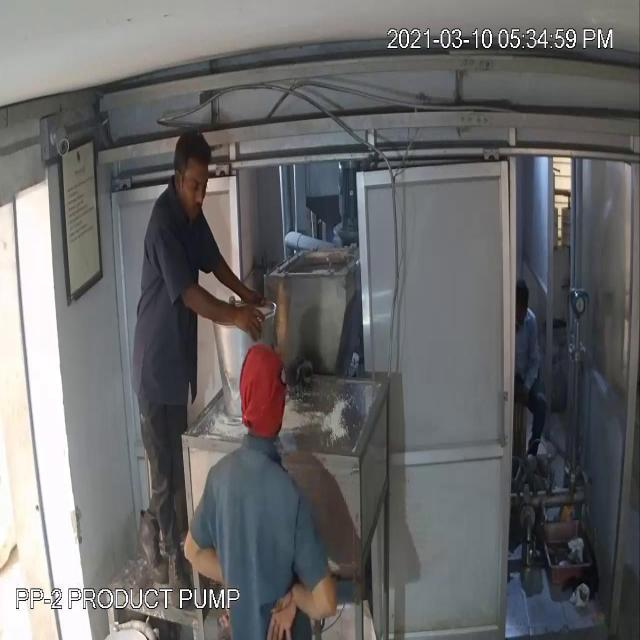No_Gloves: (176, 270, 261, 356)
